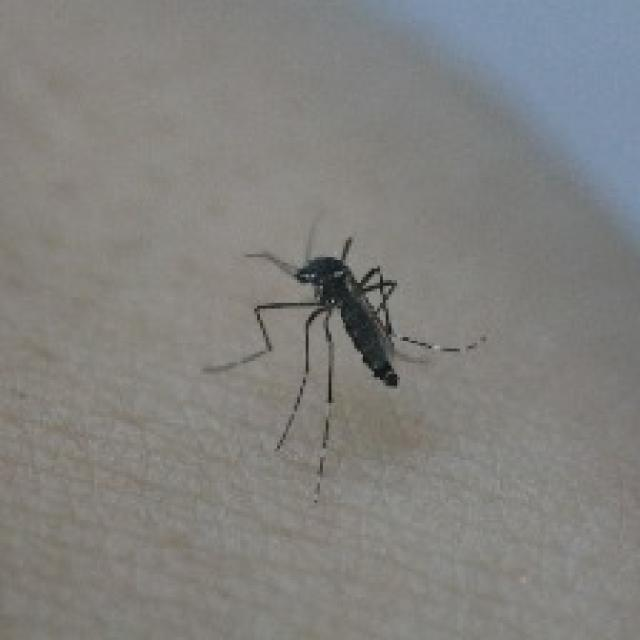aedes: (200, 214, 486, 503)
